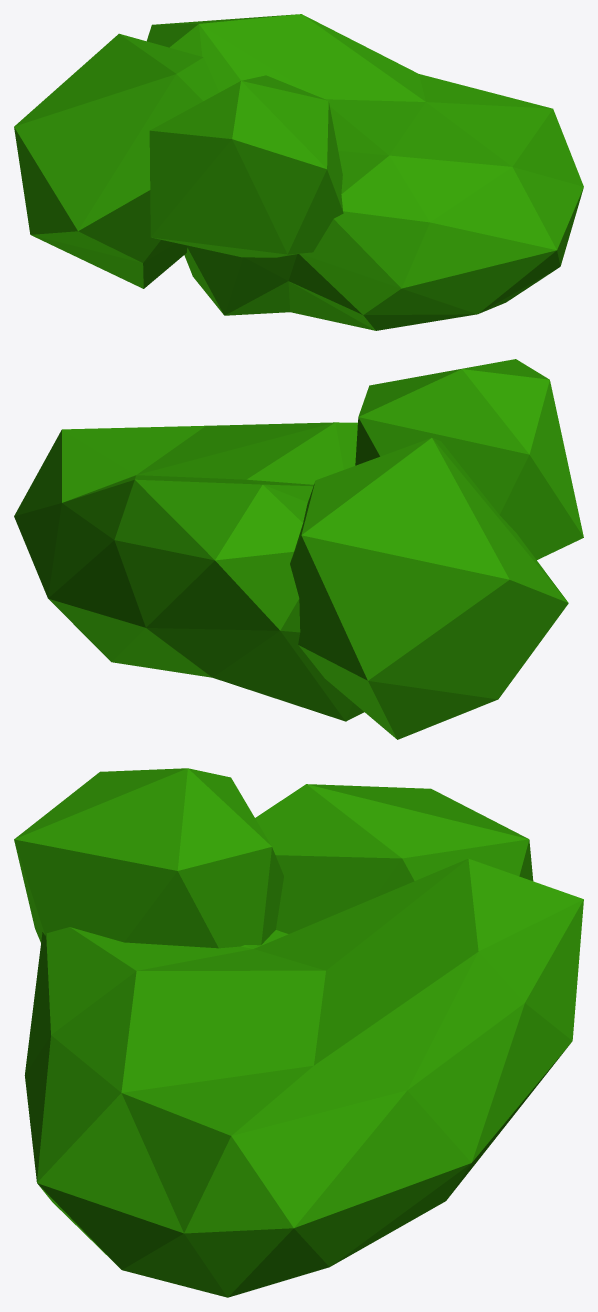
File: Bush1.fbx
3 views of the same model, one above another, from view 1: azimuth 30°, elevation 25°; view 2: azimuth 150°, elevation 25°; view 3: azimuth 270°, elevation 25° (orthographic). The views are drawn at different scales.
Parts seen in each view (by area): view 1: Bush1; view 2: Bush1; view 3: Bush1.
Boxes of the visible parts, bbox=[...] form: Bush1: bbox=[14, 14, 583, 330]; Bush1: bbox=[14, 359, 583, 739]; Bush1: bbox=[14, 768, 583, 1297].
Bounding box in the file's own units: 417 × 216 × 327.
